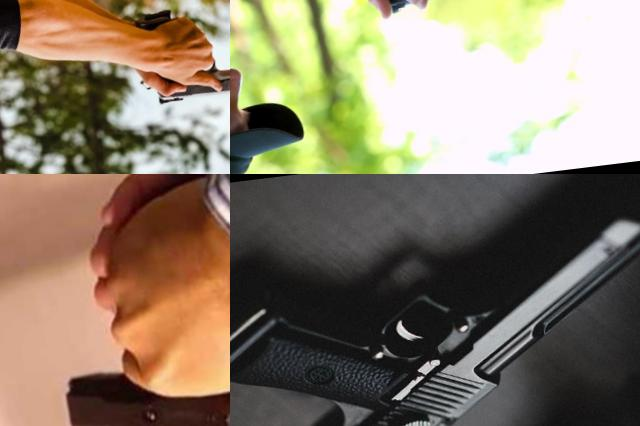handgun: (230, 174, 640, 426), (54, 313, 230, 426), (128, 0, 230, 109), (372, 0, 520, 43)
